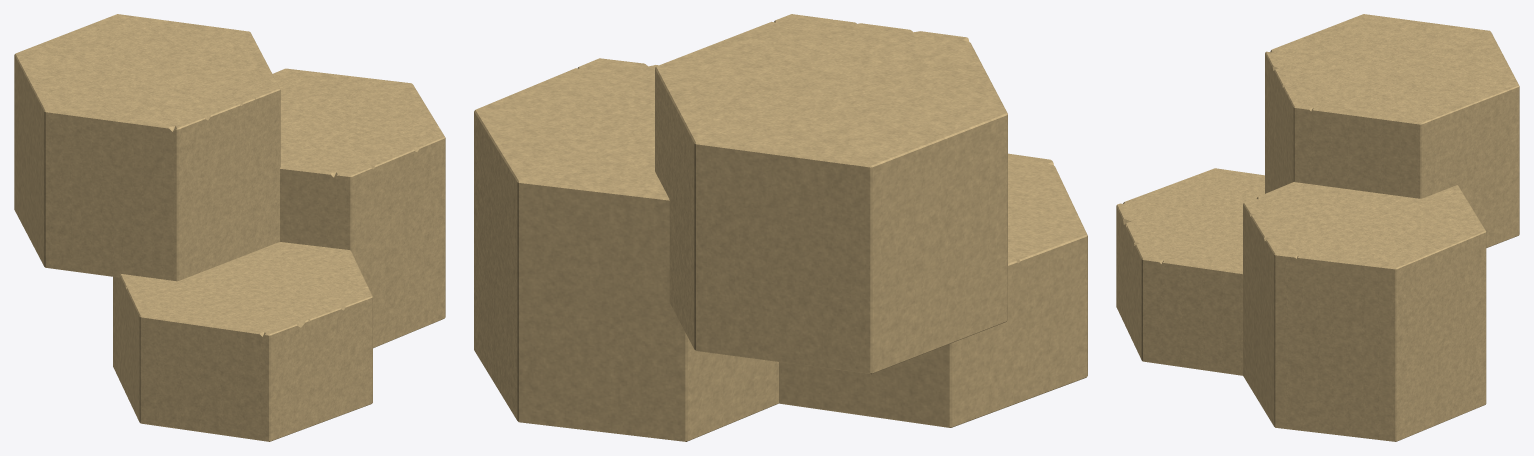
The model's file is OrirockConcentration_Finished.fbx.
3 views of the same model, side by side, from view 1: azimuth 30°, elevation 25°; view 2: azimuth 150°, elevation 25°; view 3: azimuth 270°, elevation 25° (orthographic). The views are drawn at different scales.
Parts seen in each view (by area): view 1: 提纯源岩_左后_宽顶短壁, 提纯源岩_前方_宽扁断块, 提纯源岩_右后_斜切与下阶; view 2: 提纯源岩_左后_宽顶短壁, 提纯源岩_右后_斜切与下阶, 提纯源岩_前方_宽扁断块; view 3: 提纯源岩_右后_斜切与下阶, 提纯源岩_左后_宽顶短壁, 提纯源岩_前方_宽扁断块.
Part boxes in pixels (x1=…): 提纯源岩_左后_宽顶短壁: x1=14, y1=14, x2=280, y2=281; 提纯源岩_前方_宽扁断块: x1=113, y1=242, x2=372, y2=441; 提纯源岩_右后_斜切与下阶: x1=272, y1=68, x2=445, y2=348; 提纯源岩_左后_宽顶短壁: x1=655, y1=14, x2=1007, y2=374; 提纯源岩_右后_斜切与下阶: x1=474, y1=58, x2=779, y2=441; 提纯源岩_前方_宽扁断块: x1=779, y1=153, x2=1087, y2=427; 提纯源岩_右后_斜切与下阶: x1=1243, y1=182, x2=1486, y2=441; 提纯源岩_左后_宽顶短壁: x1=1265, y1=14, x2=1519, y2=247; 提纯源岩_前方_宽扁断块: x1=1116, y1=168, x2=1295, y2=375.
Bounding box in the file's own units: 165 × 106 × 156.
